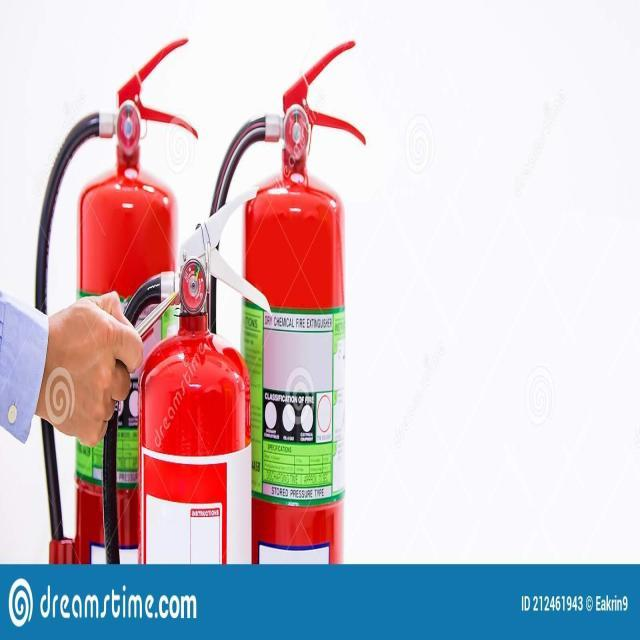FireExtinguisher: (28, 30, 202, 558), (198, 31, 368, 568), (96, 180, 275, 565)
